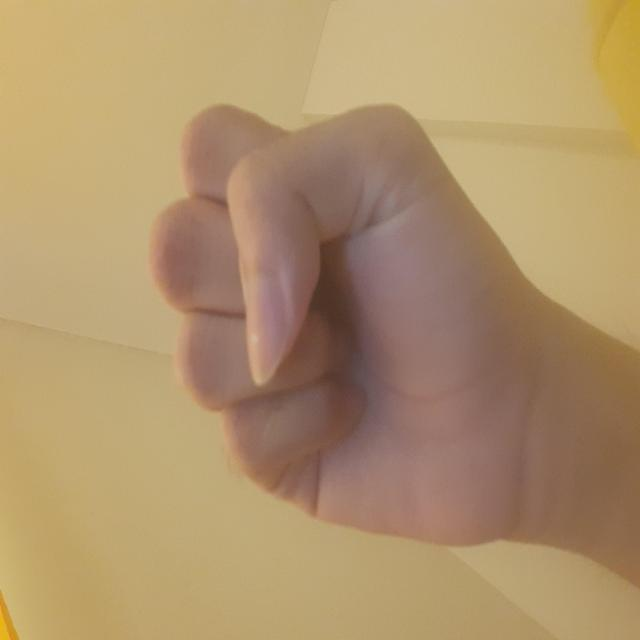S: (91, 145, 546, 509)
